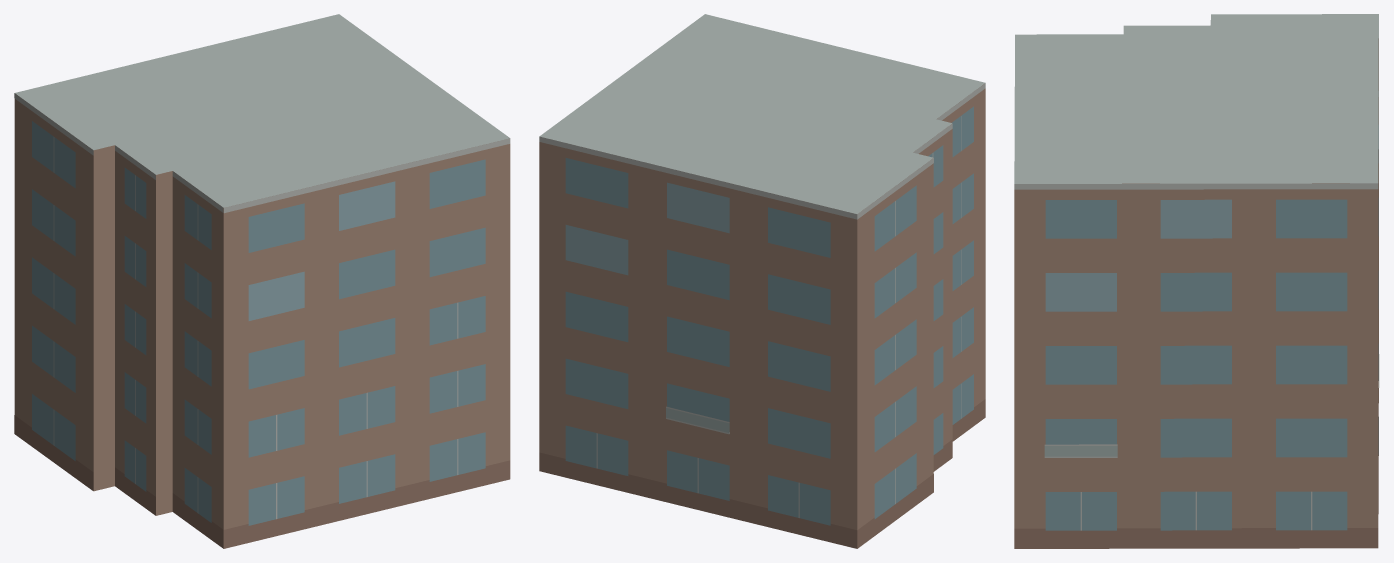
The model's file is survey-upis-32607665.glb.
3 renders of one model, left to right at view 1: azimuth 30°, elevation 25°; view 2: azimuth 150°, elevation 25°; view 3: azimuth 270°, elevation 25°, orthographic. The views are drawn at different scales.
Parts seen in each view (by area): view 1: survey-upis-32607665.tmp; view 2: survey-upis-32607665.tmp; view 3: survey-upis-32607665.tmp.
Boxes of the visible parts, x1=… form: survey-upis-32607665.tmp: x1=14, y1=14, x2=510, y2=548; survey-upis-32607665.tmp: x1=539, y1=14, x2=985, y2=548; survey-upis-32607665.tmp: x1=1014, y1=14, x2=1379, y2=548.
Size of the model in its own units: 15.27 by 15.25 by 13.84.
